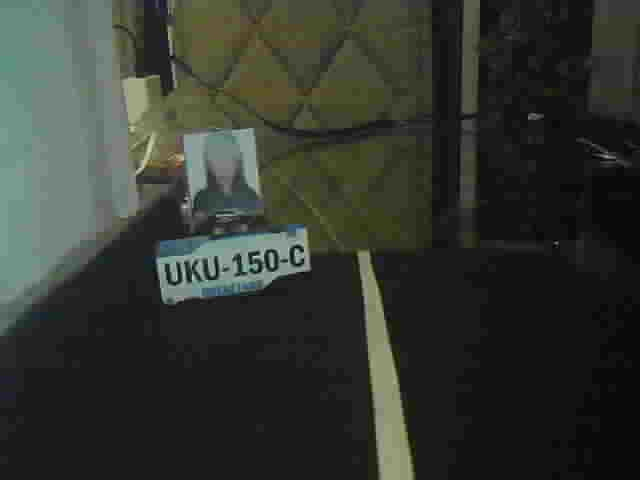PLACA: (149, 223, 313, 310)
ROSTRO: (193, 133, 265, 209)
